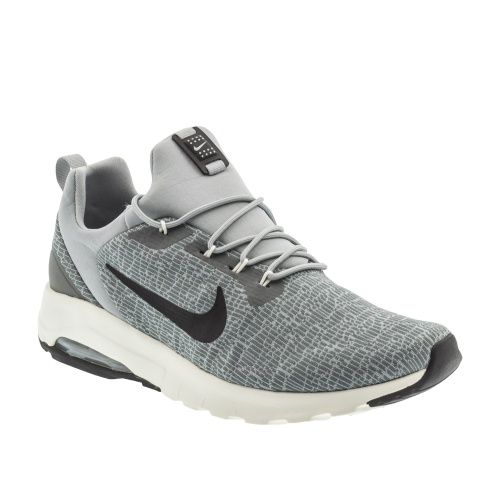nike: (101, 257, 230, 353)
